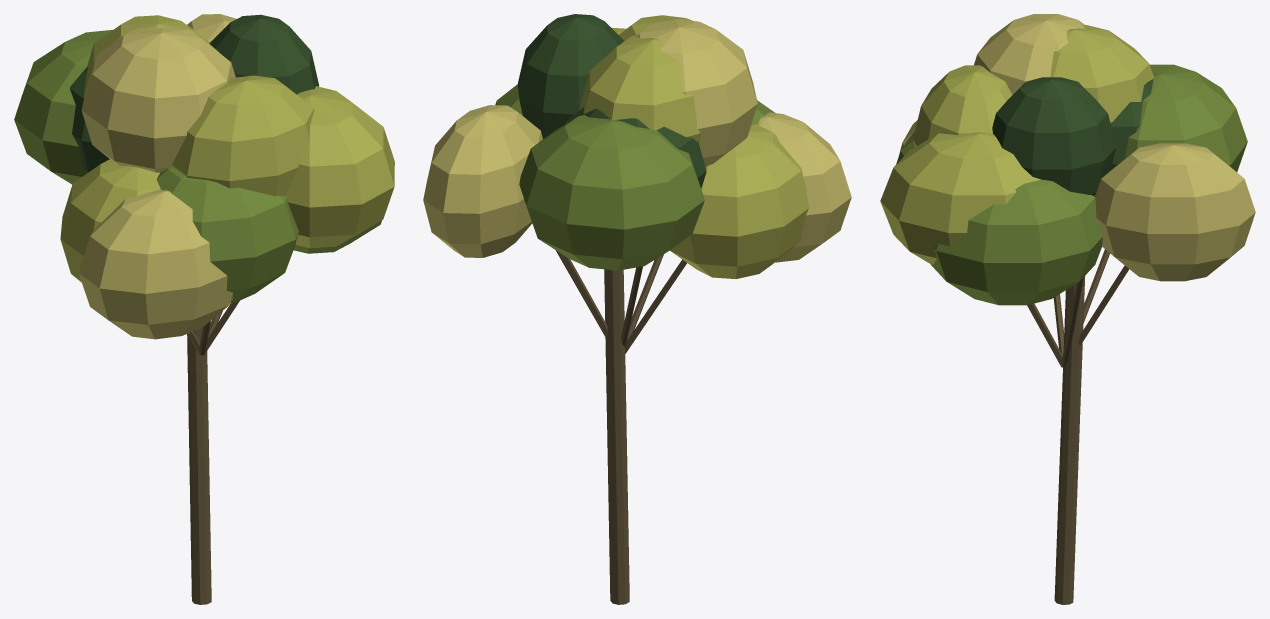
The model's file is Forest_BacklitTree_02.obj.
The picture shows the model from 3 angles, left to right: view 1: azimuth 30°, elevation 25°; view 2: azimuth 150°, elevation 25°; view 3: azimuth 270°, elevation 25°; orthographic projection. The views are drawn at different scales.
Parts seen in each view (by area): view 1: Forest_BacklitTree_02; view 2: Forest_BacklitTree_02; view 3: Forest_BacklitTree_02.
Boxes of the visible parts, <box> form: Forest_BacklitTree_02: <box>14,14,394,604</box>; Forest_BacklitTree_02: <box>423,14,851,604</box>; Forest_BacklitTree_02: <box>880,14,1255,604</box>.
Bounding box in the file's own units: 6.1 × 10.8 × 6.59.
1 material, 1 textured.
